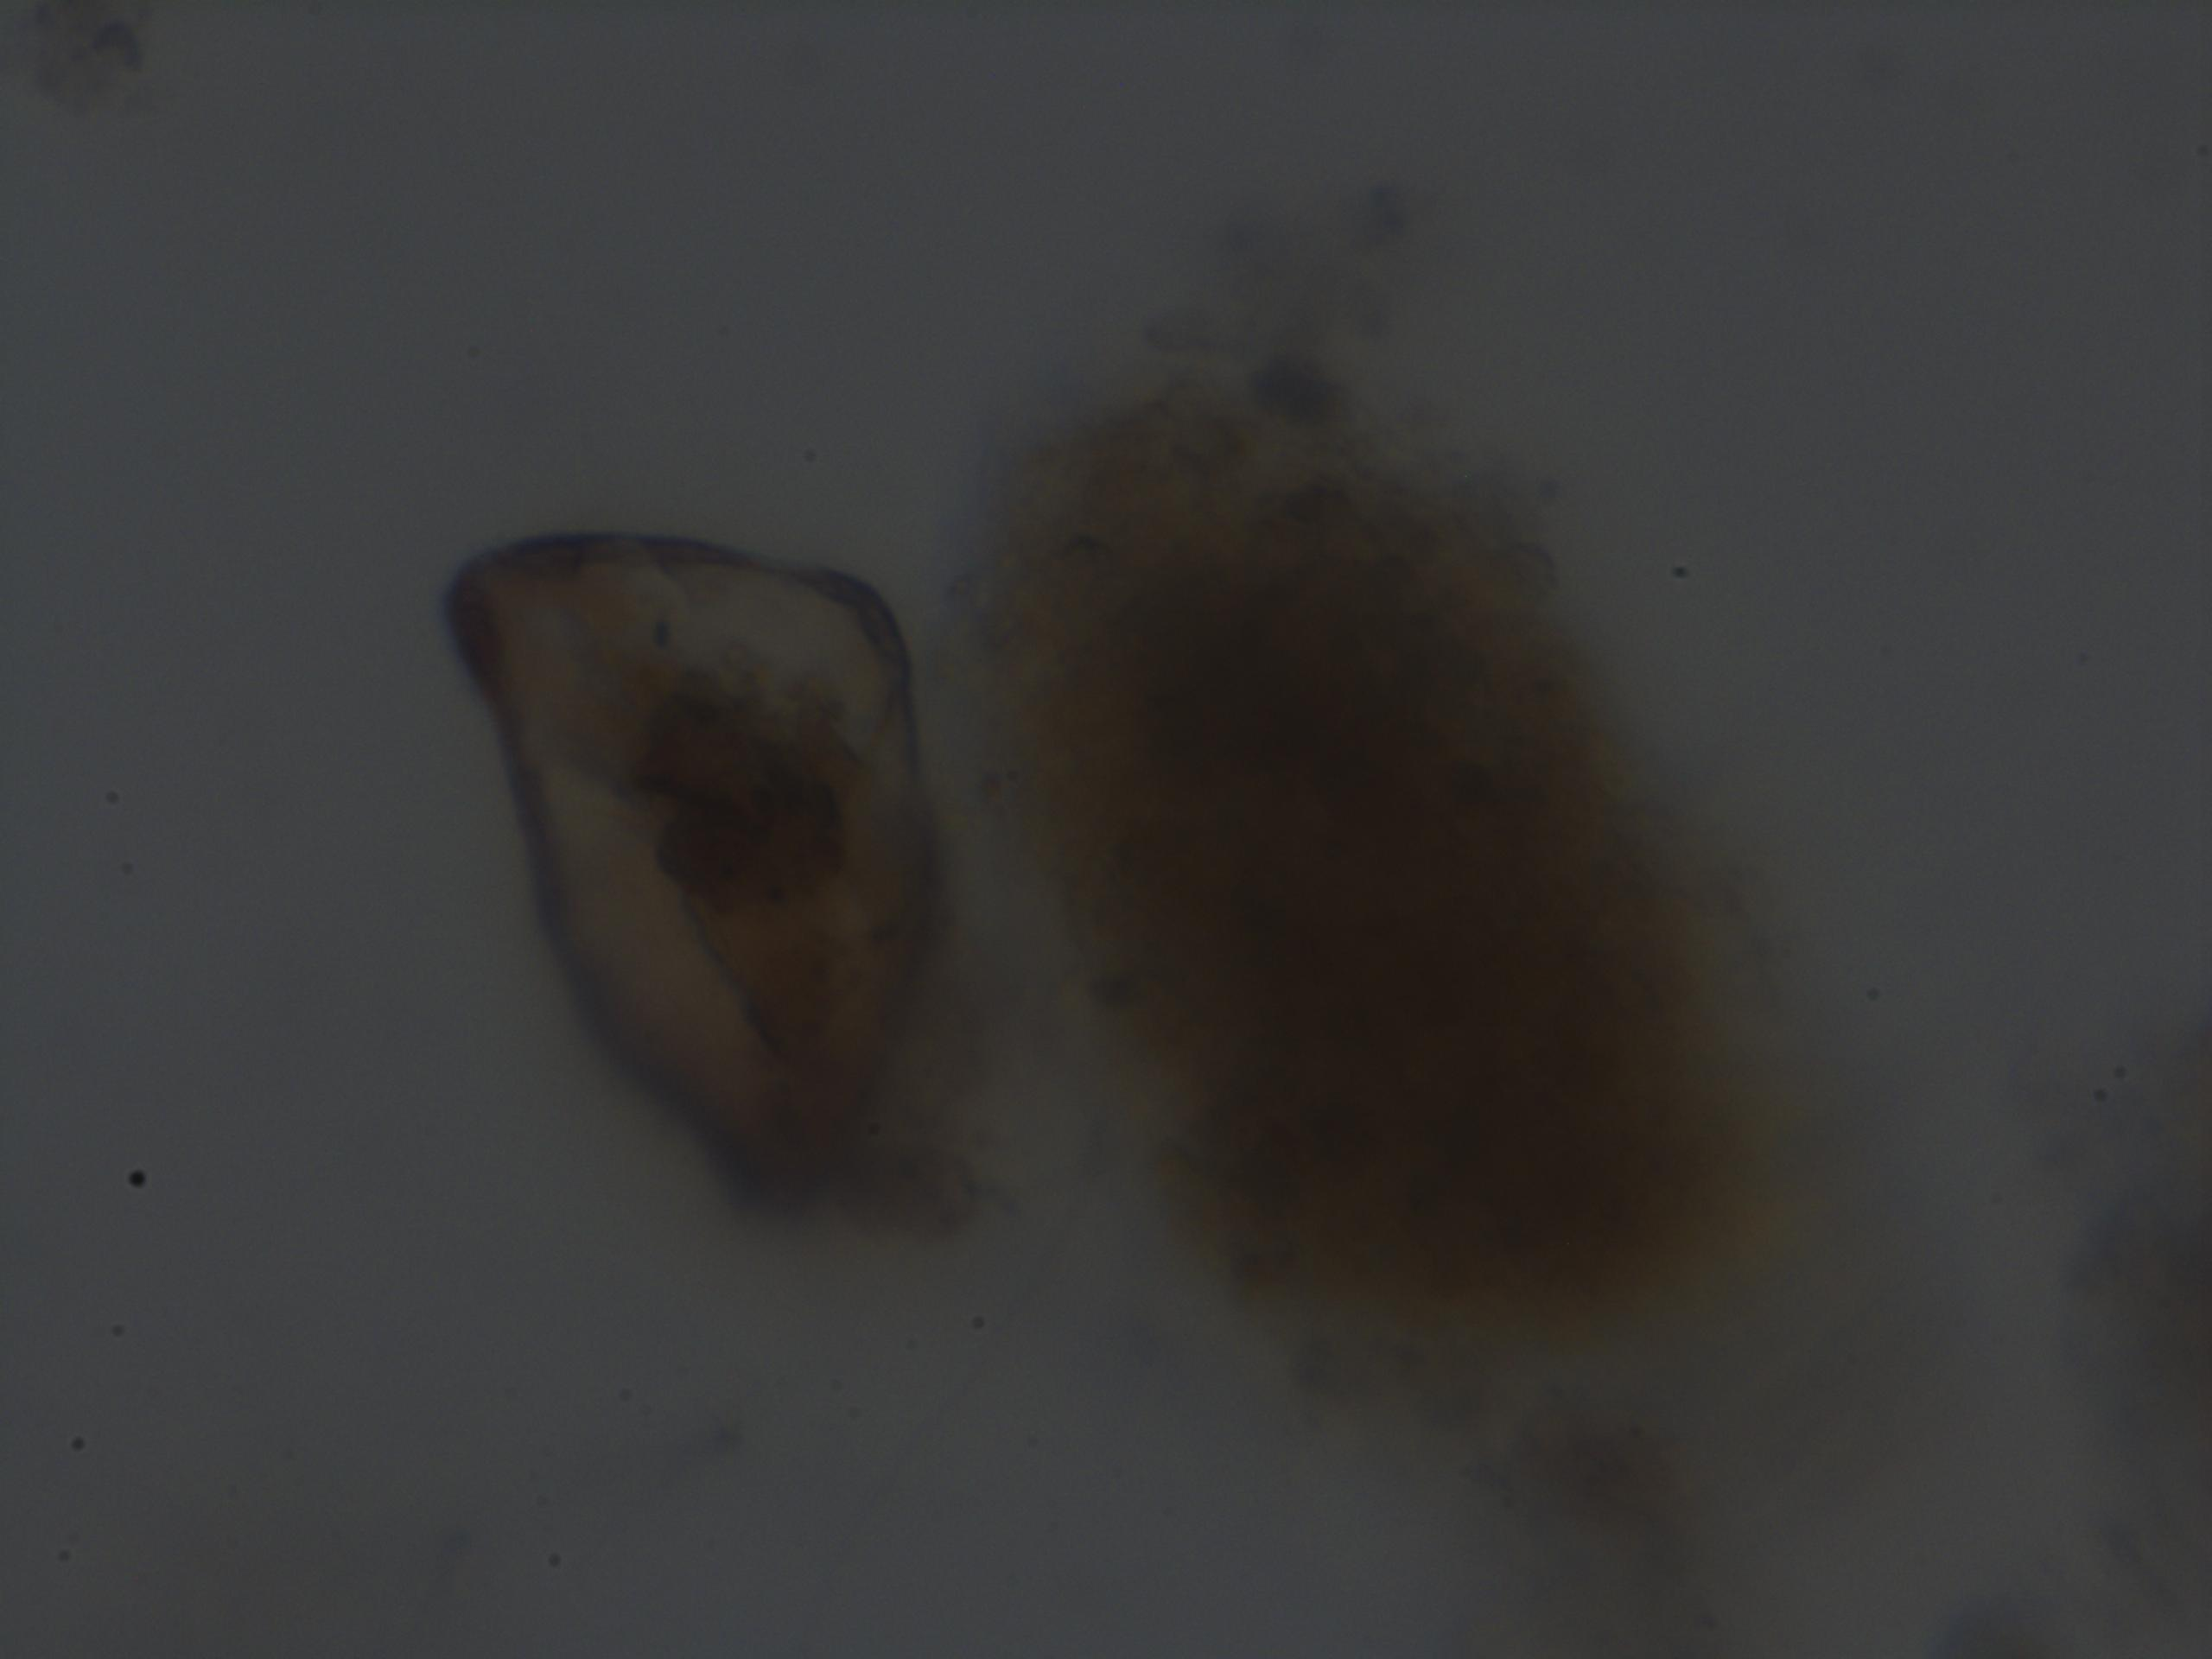spherical_floc: (958, 364, 1778, 1321)
